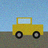vehicle: (12, 17, 43, 38)
